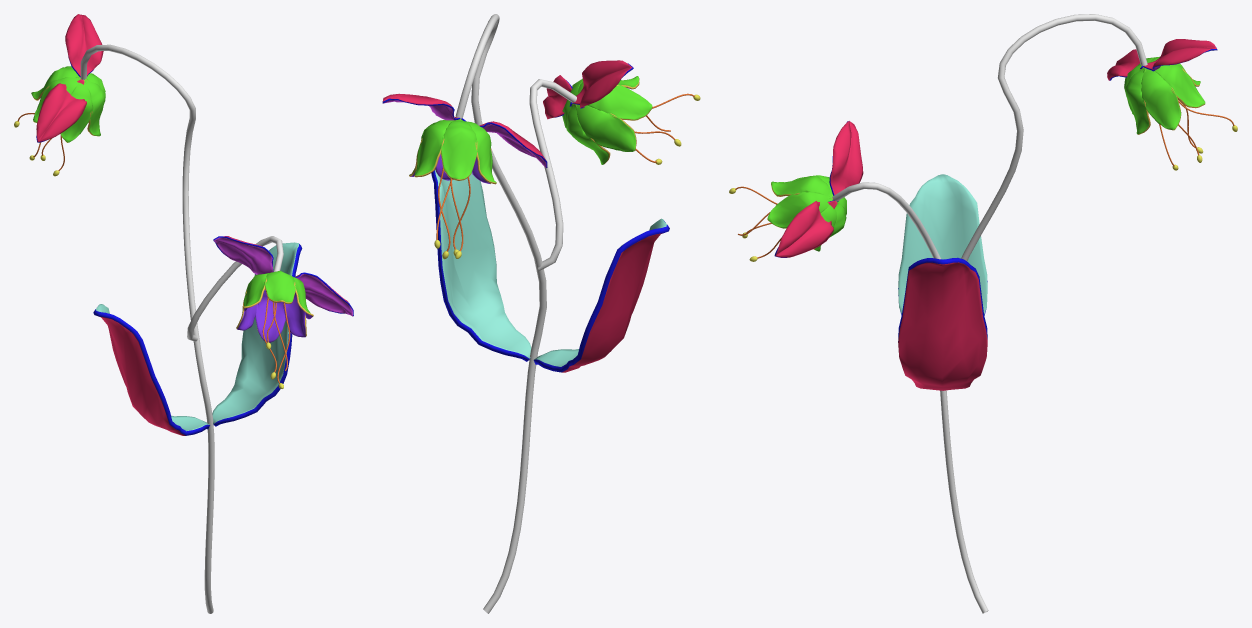
The model's file is FlowerPlant1.fbx.
3 views of the same model, side by side, from view 1: azimuth 30°, elevation 25°; view 2: azimuth 150°, elevation 25°; view 3: azimuth 270°, elevation 25° (orthographic). The views are drawn at different scales.
Visible parts, largest first — view 1: Circle.003, main stem, Circle.047, Circle.004, Circle.027, Circle.002, BézierCurve.010; view 2: Circle.003, main stem, Circle.047, Circle.002, Circle.027, BézierCurve.010, Circle.004; view 3: Circle.003, main stem, Circle.002, Circle.027, Circle.047, Circle.004, BézierCurve.010.
Part boxes in pixels (<box>): Circle.003: <box>93,242,302,435</box>; main stem: <box>80,44,214,613</box>; Circle.047: <box>236,270,313,342</box>; Circle.004: <box>36,14,103,142</box>; Circle.027: <box>213,236,353,316</box>; Circle.002: <box>31,66,105,142</box>; BézierCurve.010: <box>187,236,283,341</box>; Circle.003: <box>431,169,669,372</box>; main stem: <box>455,14,546,613</box>; Circle.047: <box>562,76,652,164</box>; Circle.002: <box>409,119,496,184</box>; Circle.027: <box>543,60,633,119</box>; BézierCurve.010: <box>529,79,576,270</box>; Circle.004: <box>382,93,547,168</box>; Circle.003: <box>898,174,987,390</box>; main stem: <box>940,14,1147,613</box>; Circle.002: <box>1124,56,1205,134</box>; Circle.027: <box>774,121,863,257</box>; Circle.047: <box>767,175,846,251</box>; Circle.004: <box>1107,39,1217,80</box>; BézierCurve.010: <box>832,182,940,259</box>.
Bounding box in the file's own units: 1820 × 4571 × 3655.
